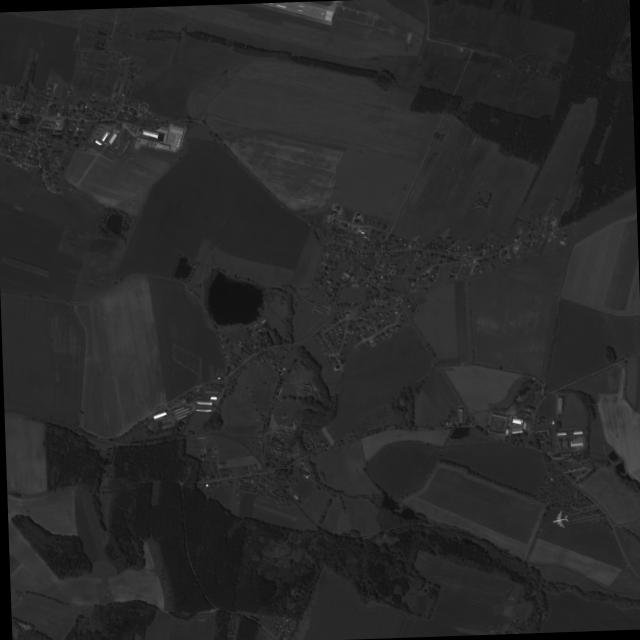plane: (549, 508, 569, 529)
